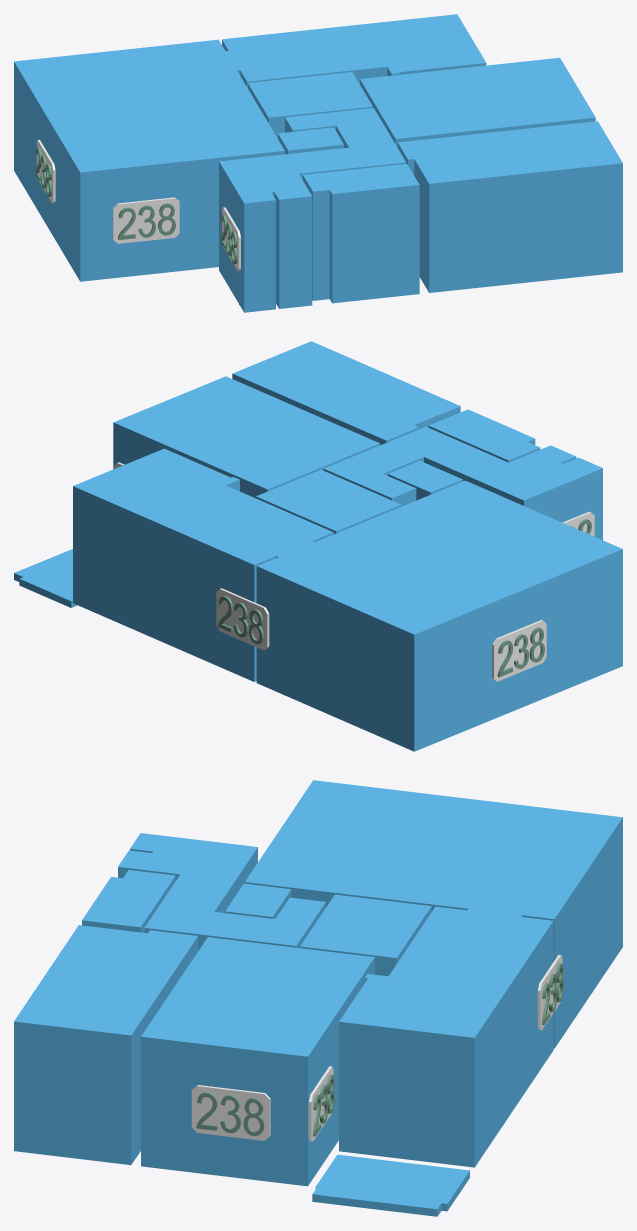
The picture shows the model from 3 angles, top to bottom: view 1: azimuth 30°, elevation 25°; view 2: azimuth 150°, elevation 25°; view 3: azimuth 270°, elevation 25°; orthographic projection. The views are drawn at different scales.
Parts seen in each view (by area): view 1: g_1, g_4, g_7, g_5, g_3, g_0, g_2, g_12, g_6, g_28, g_32; view 2: g_1, g_0, g_3, g_7, g_4, g_2, g_5, g_8, g_28, g_20, g_6; view 3: g_1, g_0, g_3, g_4, g_7, g_8, g_2, g_5, g_16, g_6, g_24, g_20.
Boxes of the visible parts, <box> form: g_1: <box>14,39,284,281</box>; g_4: <box>397,121,622,292</box>; g_7: <box>219,108,406,312</box>; g_5: <box>303,164,419,303</box>; g_3: <box>360,57,595,147</box>; g_0: <box>222,14,486,88</box>; g_2: <box>248,72,372,138</box>; g_12: <box>113,197,179,243</box>; g_6: <box>278,127,343,154</box>; g_28: <box>36,140,55,203</box>; g_32: <box>222,207,240,270</box>; g_1: <box>256,480,622,751</box>; g_0: <box>73,448,333,681</box>; g_3: <box>113,376,379,498</box>; g_7: <box>323,426,602,540</box>; g_4: <box>232,341,460,445</box>; g_2: <box>256,469,401,534</box>; g_5: <box>428,409,540,462</box>; g_8: <box>14,549,77,607</box>; g_28: <box>492,620,546,681</box>; g_20: <box>216,588,269,650</box>; g_6: <box>388,461,462,500</box>; g_1: <box>245,780,622,1048</box>; g_0: <box>339,906,553,1167</box>; g_3: <box>141,937,374,1186</box>; g_4: <box>14,925,198,1164</box>; g_7: <box>118,833,325,950</box>; g_8: <box>312,1154,469,1216</box>; g_2: <box>300,894,431,976</box>; g_5: <box>82,870,175,932</box>; g_16: <box>191,1085,270,1140</box>; g_6: <box>225,883,291,918</box>; g_24: <box>308,1066,333,1141</box>; g_20: <box>537,954,562,1030</box>.
Bounding box in the file's own units: 12.73 × 2.74 × 10.96.
